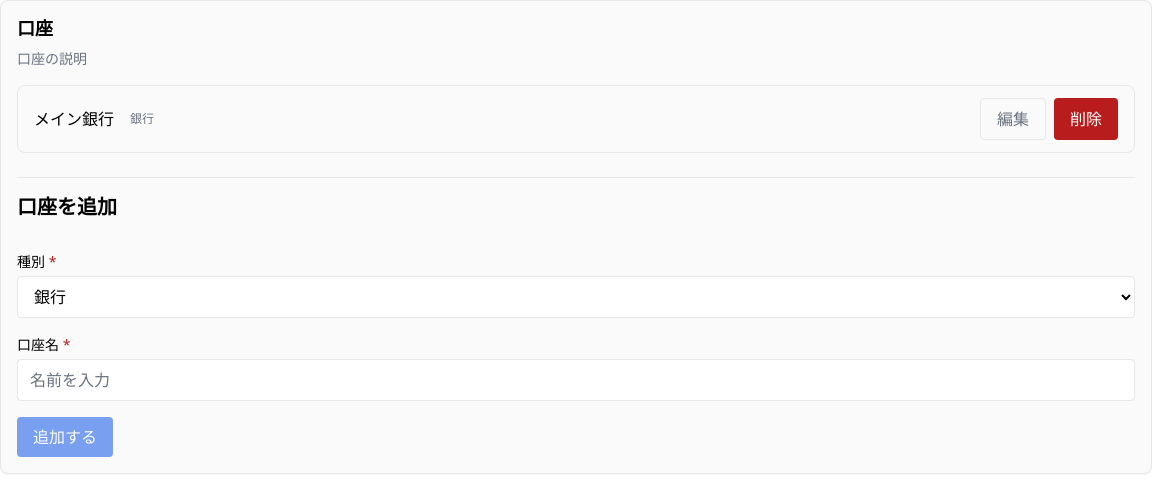
Test: ResourceSection › enters edit mode when edit is clicked
Click the button "編集" at (1013, 118), box [980, 98, 1046, 140]
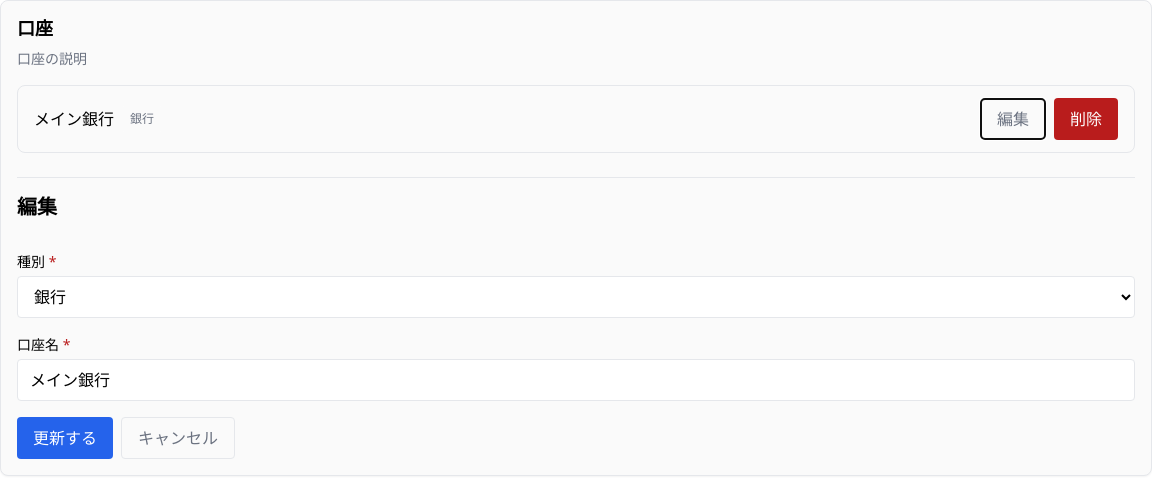
Check: the heading "編集" is shown, box [17, 192, 57, 220]
Check: the field showing "メイン銀行" is shown, box [17, 358, 1135, 400]
